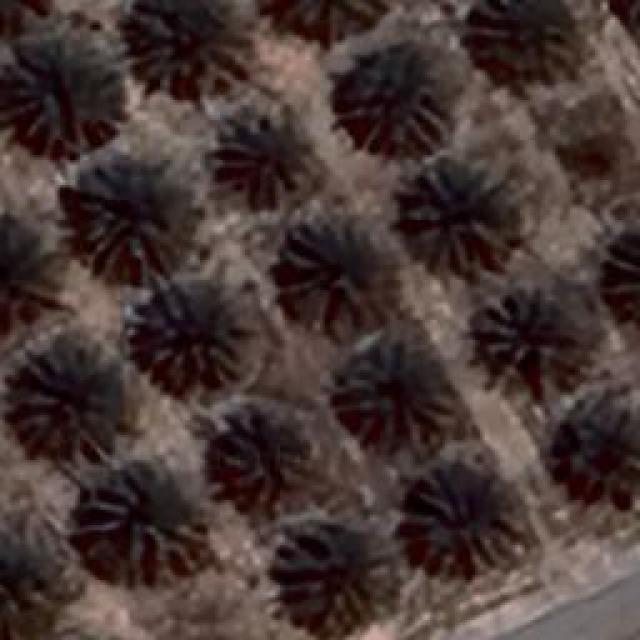PalmTree: (2, 29, 122, 152), (82, 462, 210, 576), (70, 165, 192, 280), (330, 42, 450, 156), (12, 342, 128, 456), (345, 352, 460, 462), (400, 158, 510, 272), (275, 528, 395, 630), (542, 392, 640, 512), (132, 0, 257, 92), (132, 282, 240, 380), (402, 475, 508, 570), (295, 231, 395, 321), (470, 0, 575, 78), (210, 410, 308, 492), (220, 108, 310, 194), (478, 290, 570, 365), (0, 522, 52, 639), (0, 225, 58, 328), (88, 23, 328, 46), (605, 230, 640, 312), (604, 0, 640, 31), (25, 17, 88, 34)
